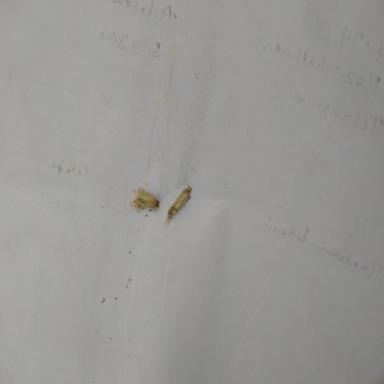pbw: (164, 177, 192, 229), (130, 188, 160, 210)
